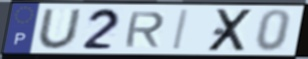0: (251, 8, 295, 54)
2: (77, 6, 124, 53)
I: (170, 8, 192, 52)
R: (122, 10, 167, 49)
U: (36, 8, 84, 51)
X: (205, 8, 256, 54)
